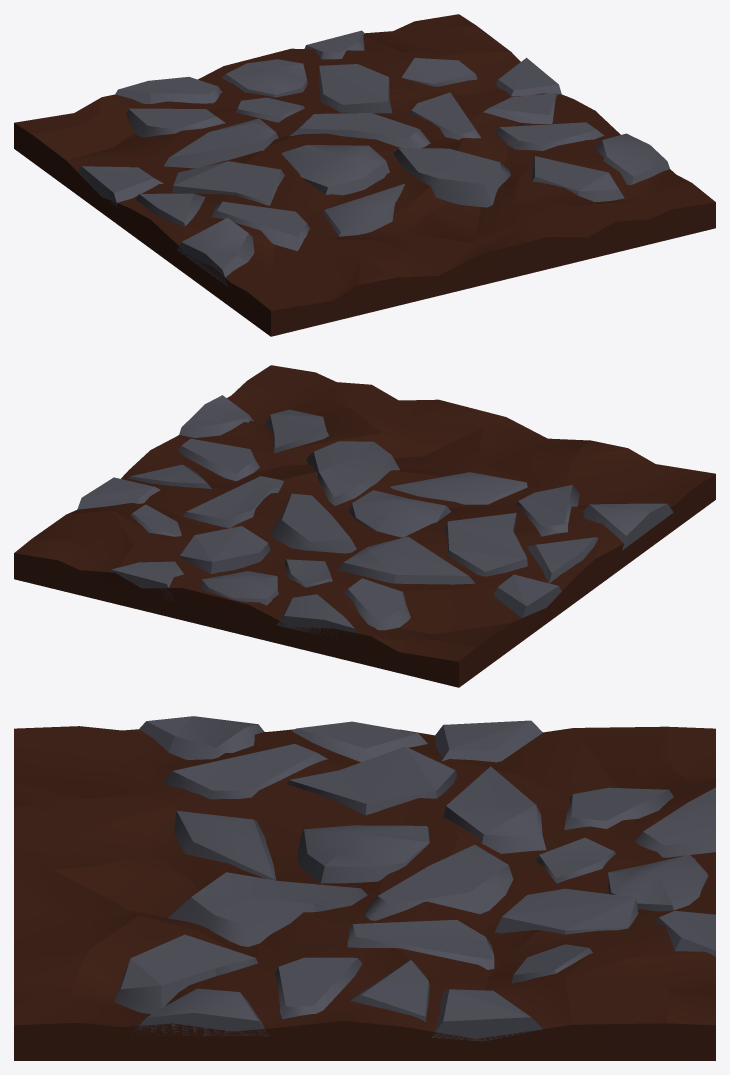
File: Ground_Stone_Path_Crossroads_U.fbx
The picture shows the model from 3 angles, top to bottom: view 1: azimuth 30°, elevation 25°; view 2: azimuth 150°, elevation 25°; view 3: azimuth 270°, elevation 25°; orthographic projection. The views are drawn at different scales.
Parts seen in each view (by area): view 1: Ground_Stone_Path_Crossroads_U; view 2: Ground_Stone_Path_Crossroads_U; view 3: Ground_Stone_Path_Crossroads_U.
Part boxes in pixels (box(x1,y1,x2,y2)): Ground_Stone_Path_Crossroads_U: box(14, 14, 715, 336); Ground_Stone_Path_Crossroads_U: box(14, 365, 715, 687); Ground_Stone_Path_Crossroads_U: box(14, 716, 715, 1060).
Bounding box in the file's own units: 147 × 14.83 × 147.
